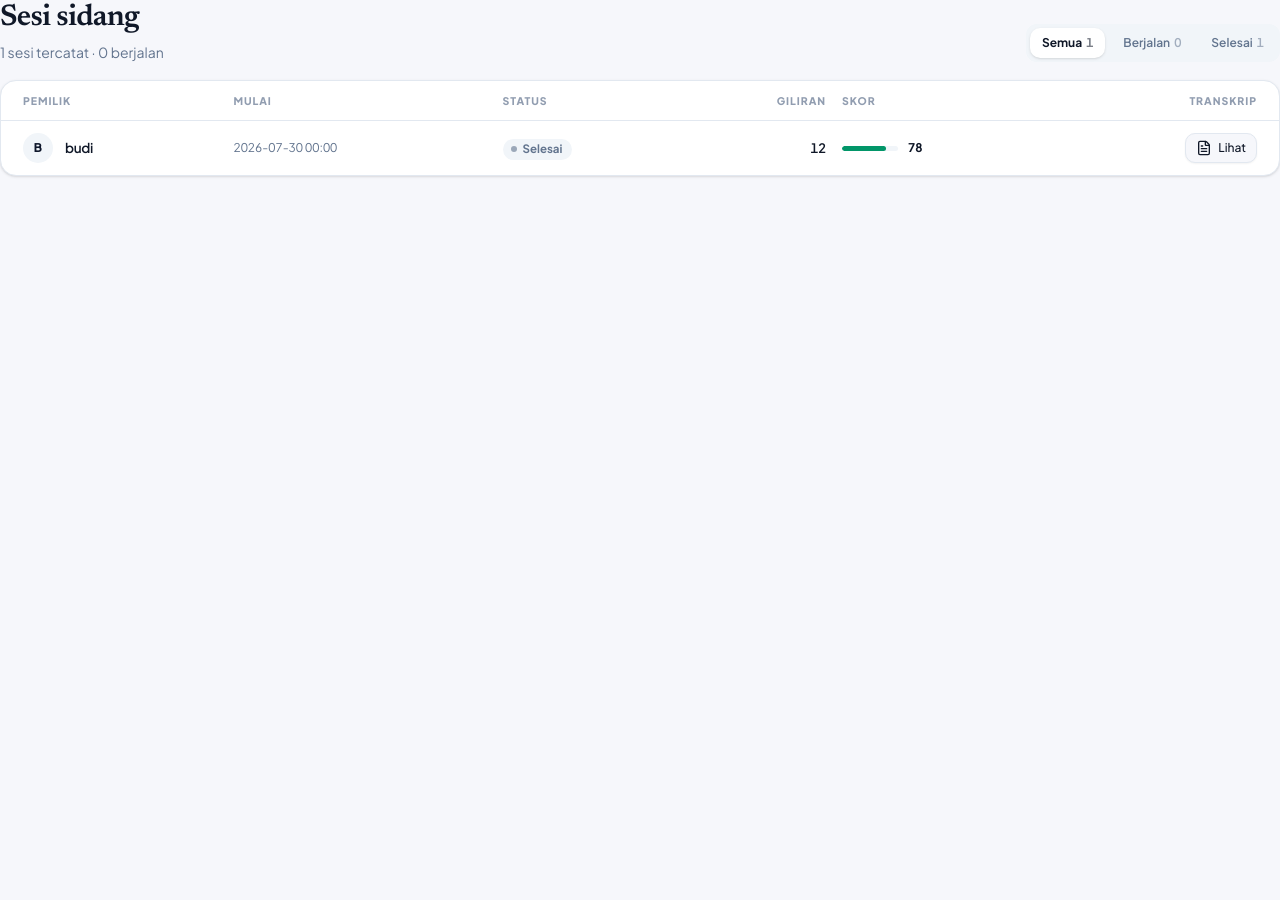
Sessions › opens the transcript on demand
Click the button with aria-label "Lihat transkrip" at (1221, 148), box [1185,133,1257,163]
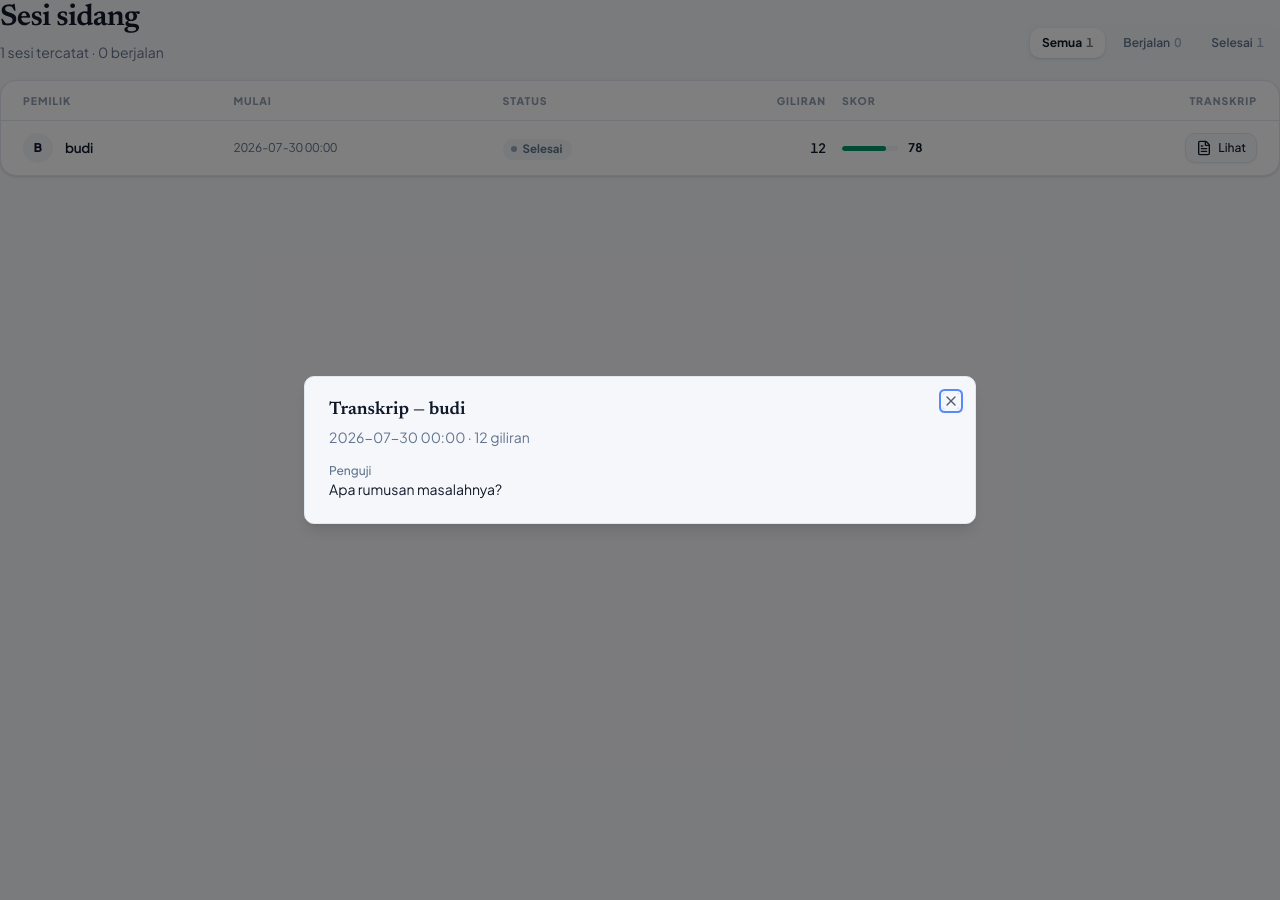
Check: the text "Apa rumusan masalahnya?" is shown, box [329,480,502,498]
